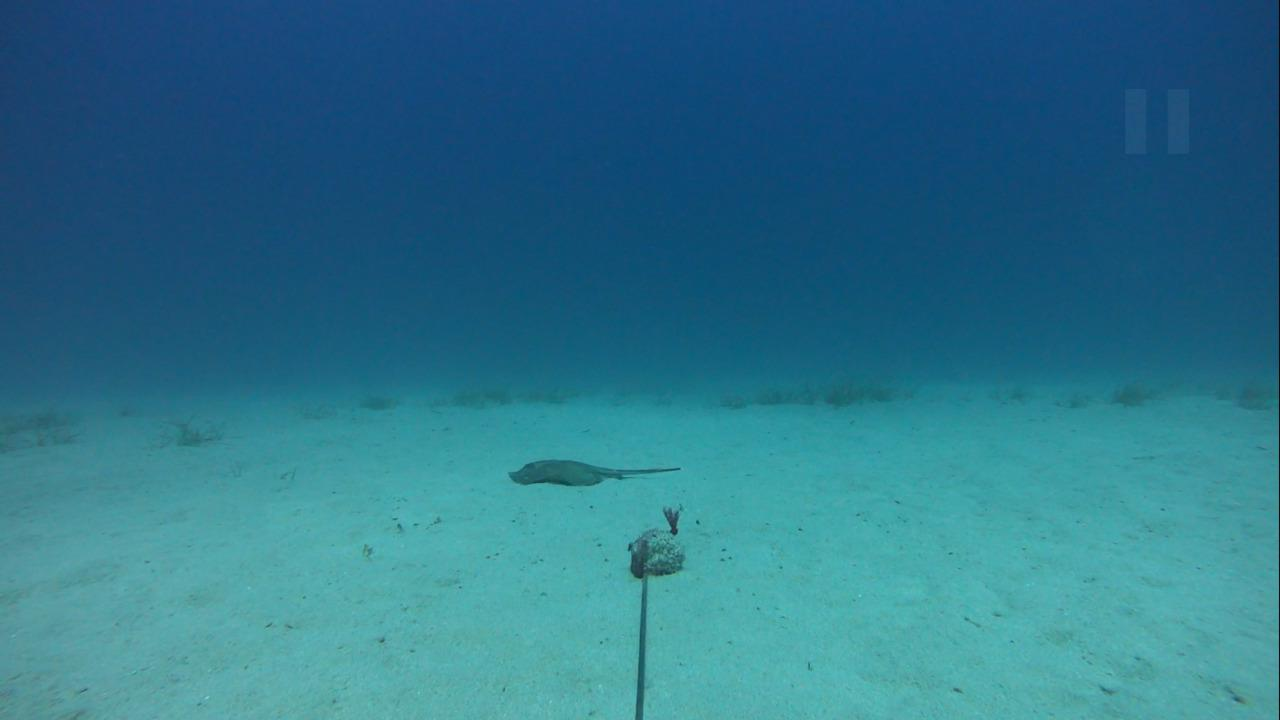myliobatis: (501, 450, 682, 494)
